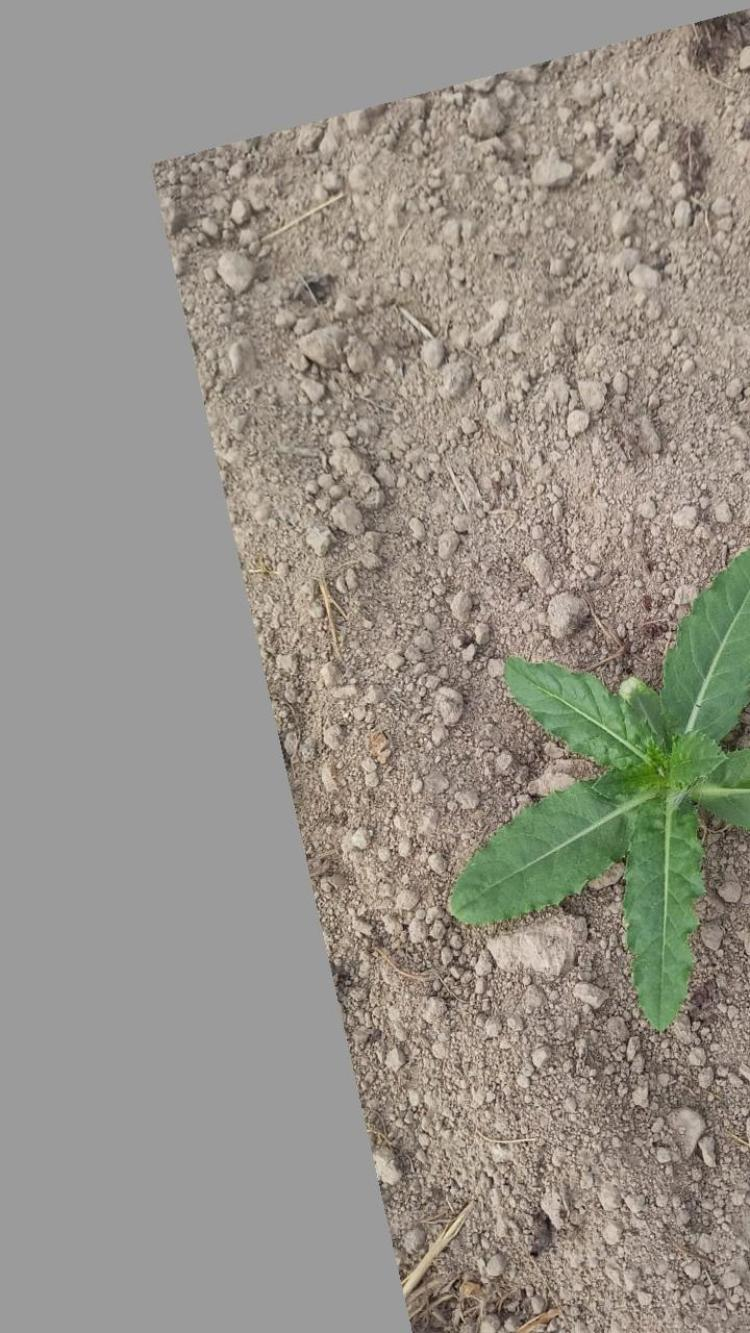osot: (441, 539, 750, 1035)
